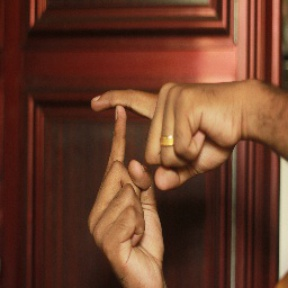T: (72, 77, 182, 214)
